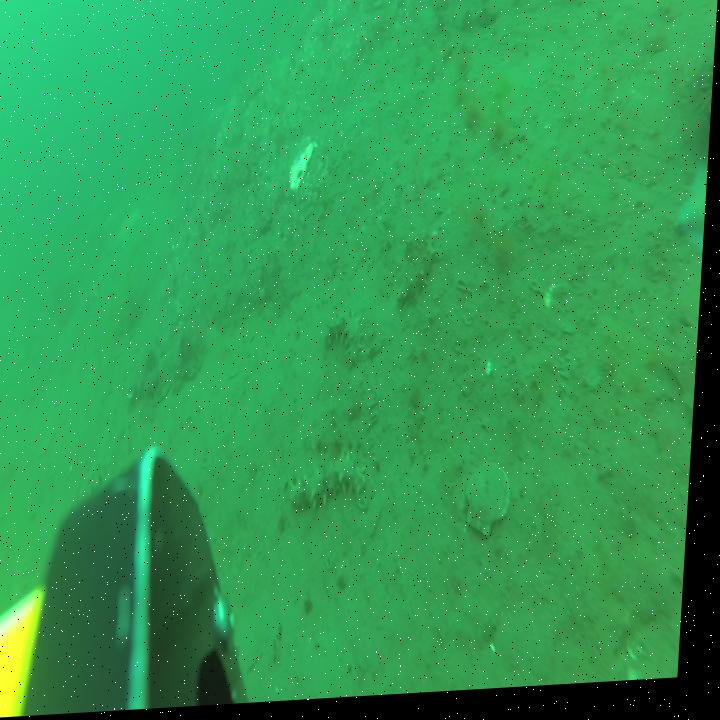holothurian: (296, 452, 373, 515), (401, 241, 440, 314), (330, 313, 370, 374), (84, 455, 115, 510), (18, 565, 36, 636)
scallop: (471, 470, 519, 542)
starfish: (680, 162, 711, 263), (119, 206, 147, 254)
